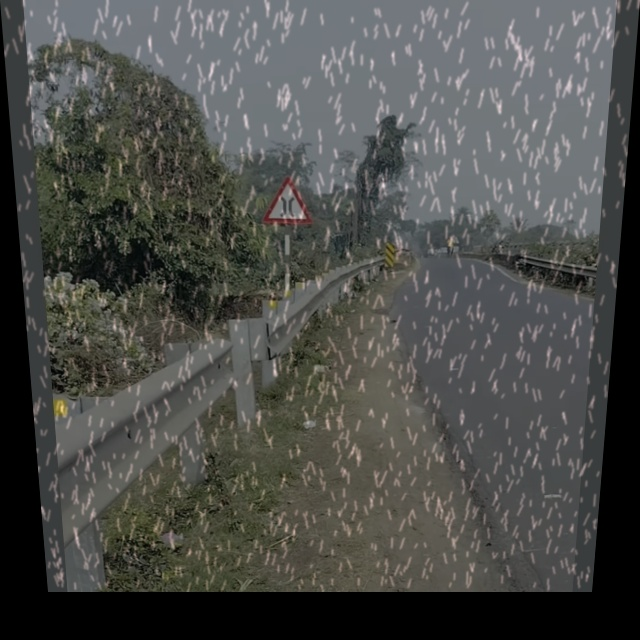Narrow_Bridge: (263, 176, 315, 227)
